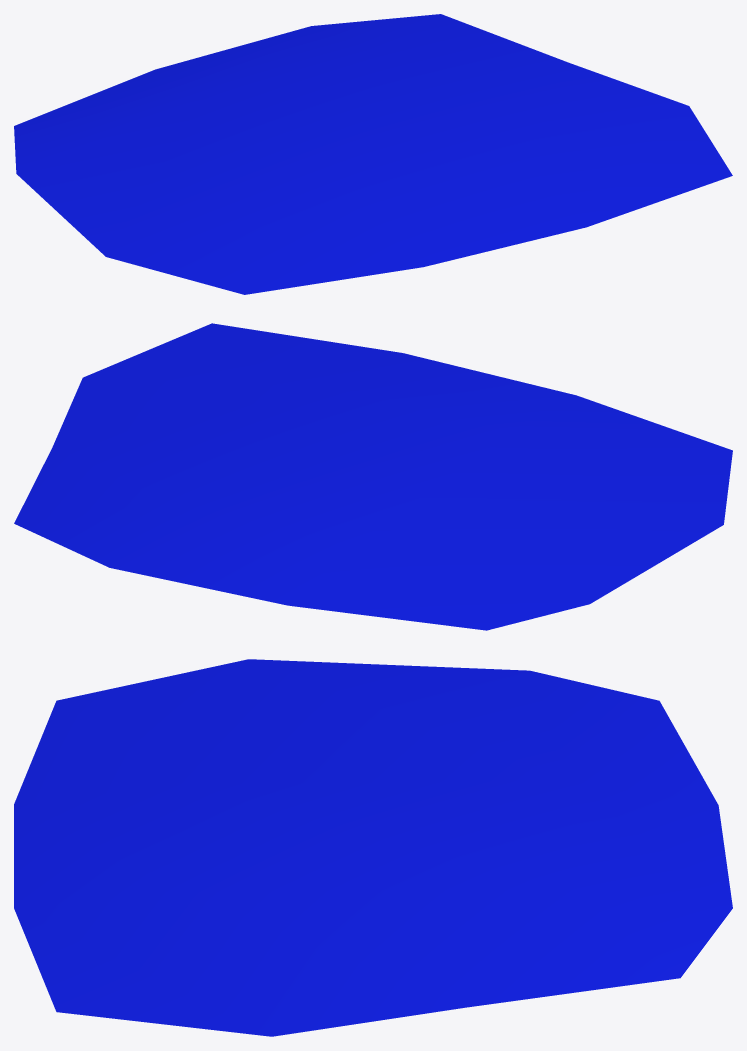
The model's file is blu.FBX.
3 renders of one model, top to bottom at view 1: azimuth 30°, elevation 25°; view 2: azimuth 150°, elevation 25°; view 3: azimuth 270°, elevation 25°, orthographic. The views are drawn at different scales.
Visible parts, largest first — view 1: Plane001; view 2: Plane001; view 3: Plane001.
Part boxes in pixels (x1=…): Plane001: x1=14, y1=14, x2=732, y2=294; Plane001: x1=14, y1=323, x2=732, y2=630; Plane001: x1=14, y1=659, x2=732, y2=1036.
Size of the model in its own units: 10.04 by 0.2662 by 8.08.
